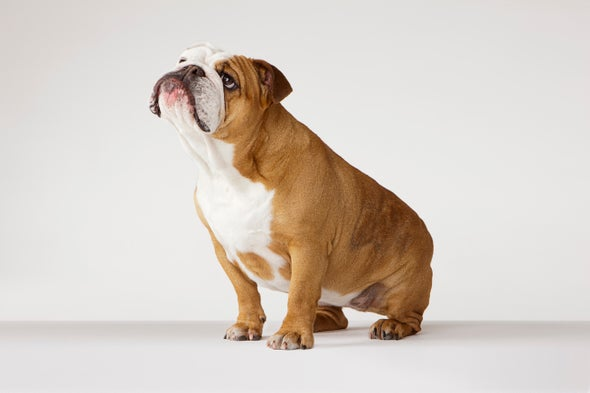dog: (146, 44, 434, 350)
